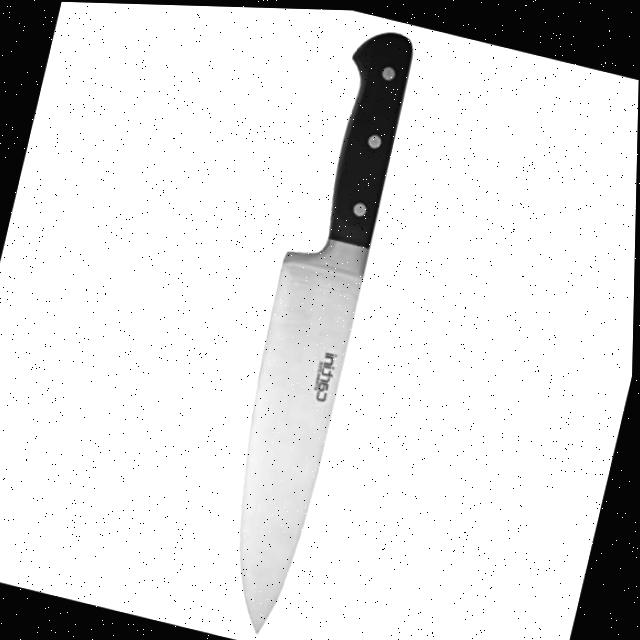knife: (196, 12, 426, 640)
